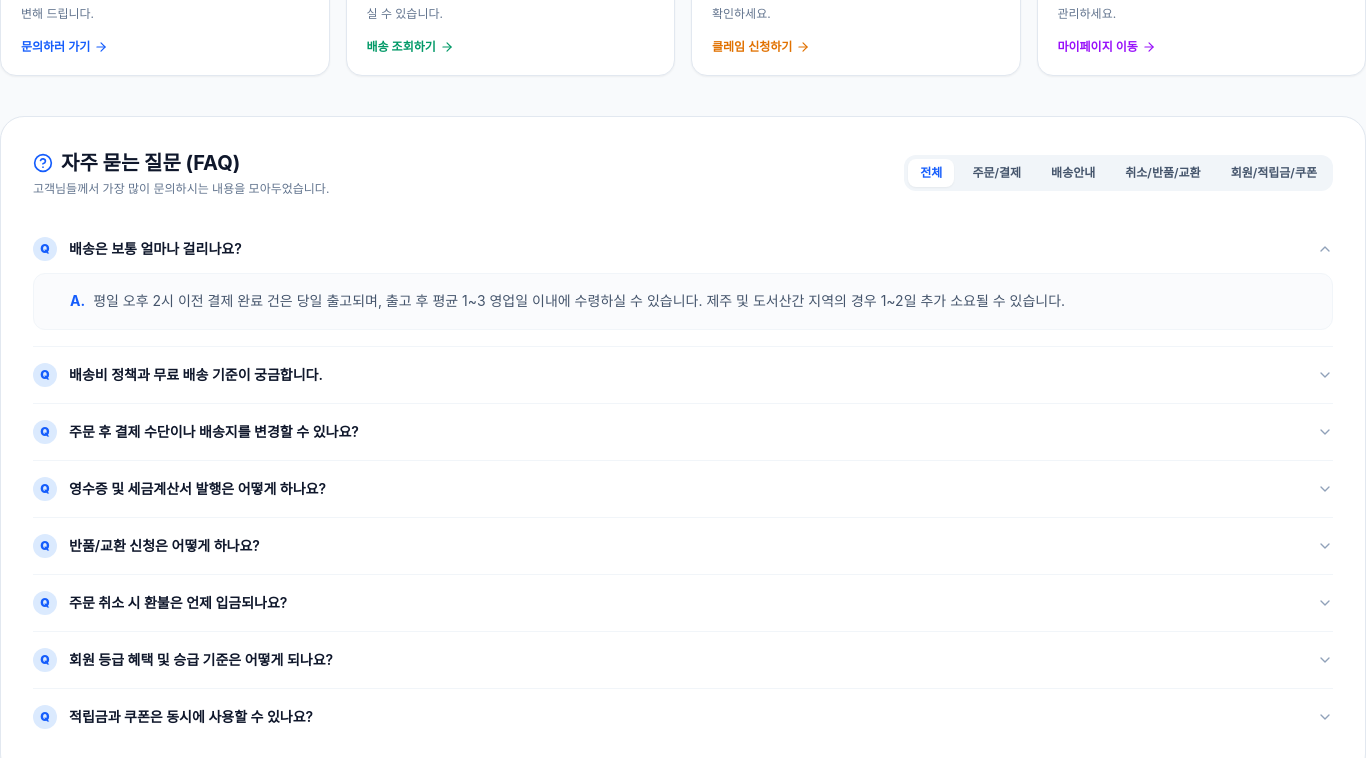
it: CustomerSupportViewer › FAQ 질문을 클릭하면 답변 아코디언이 토글된다
(page scrolled)
Expected: the text "평일 오후 2시 이전 결제 완료 건은 당일 출고" is shown, [93, 292, 1065, 309]
두 번째 FAQ 클릭
Click the text "배송비 정책과 무료 배송 기준이 궁금합니다.": (196, 375) [69, 365, 323, 385]
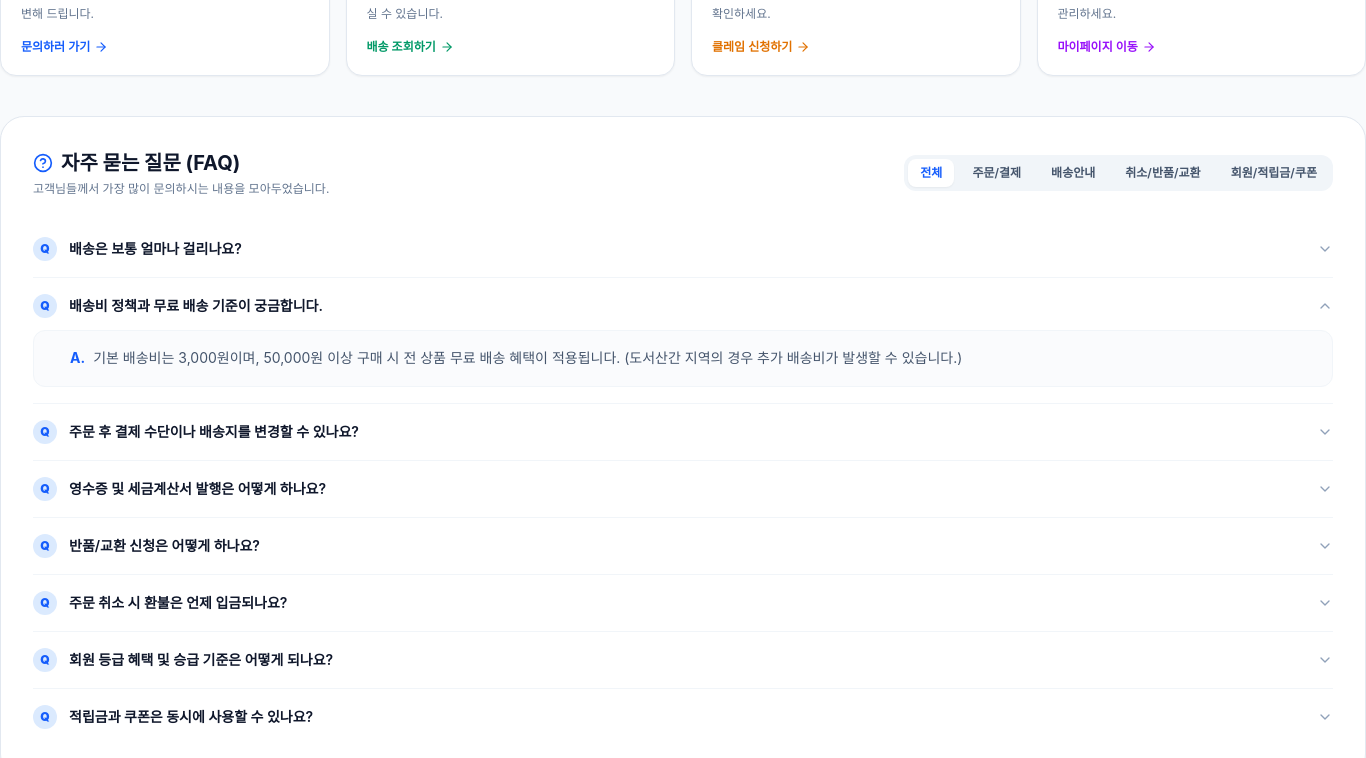
Now the text "기본 배송비는 3,000원이며, 50,000원 이상 구매 시 전 상품 무료 배송" is shown, box [93, 349, 962, 366]
